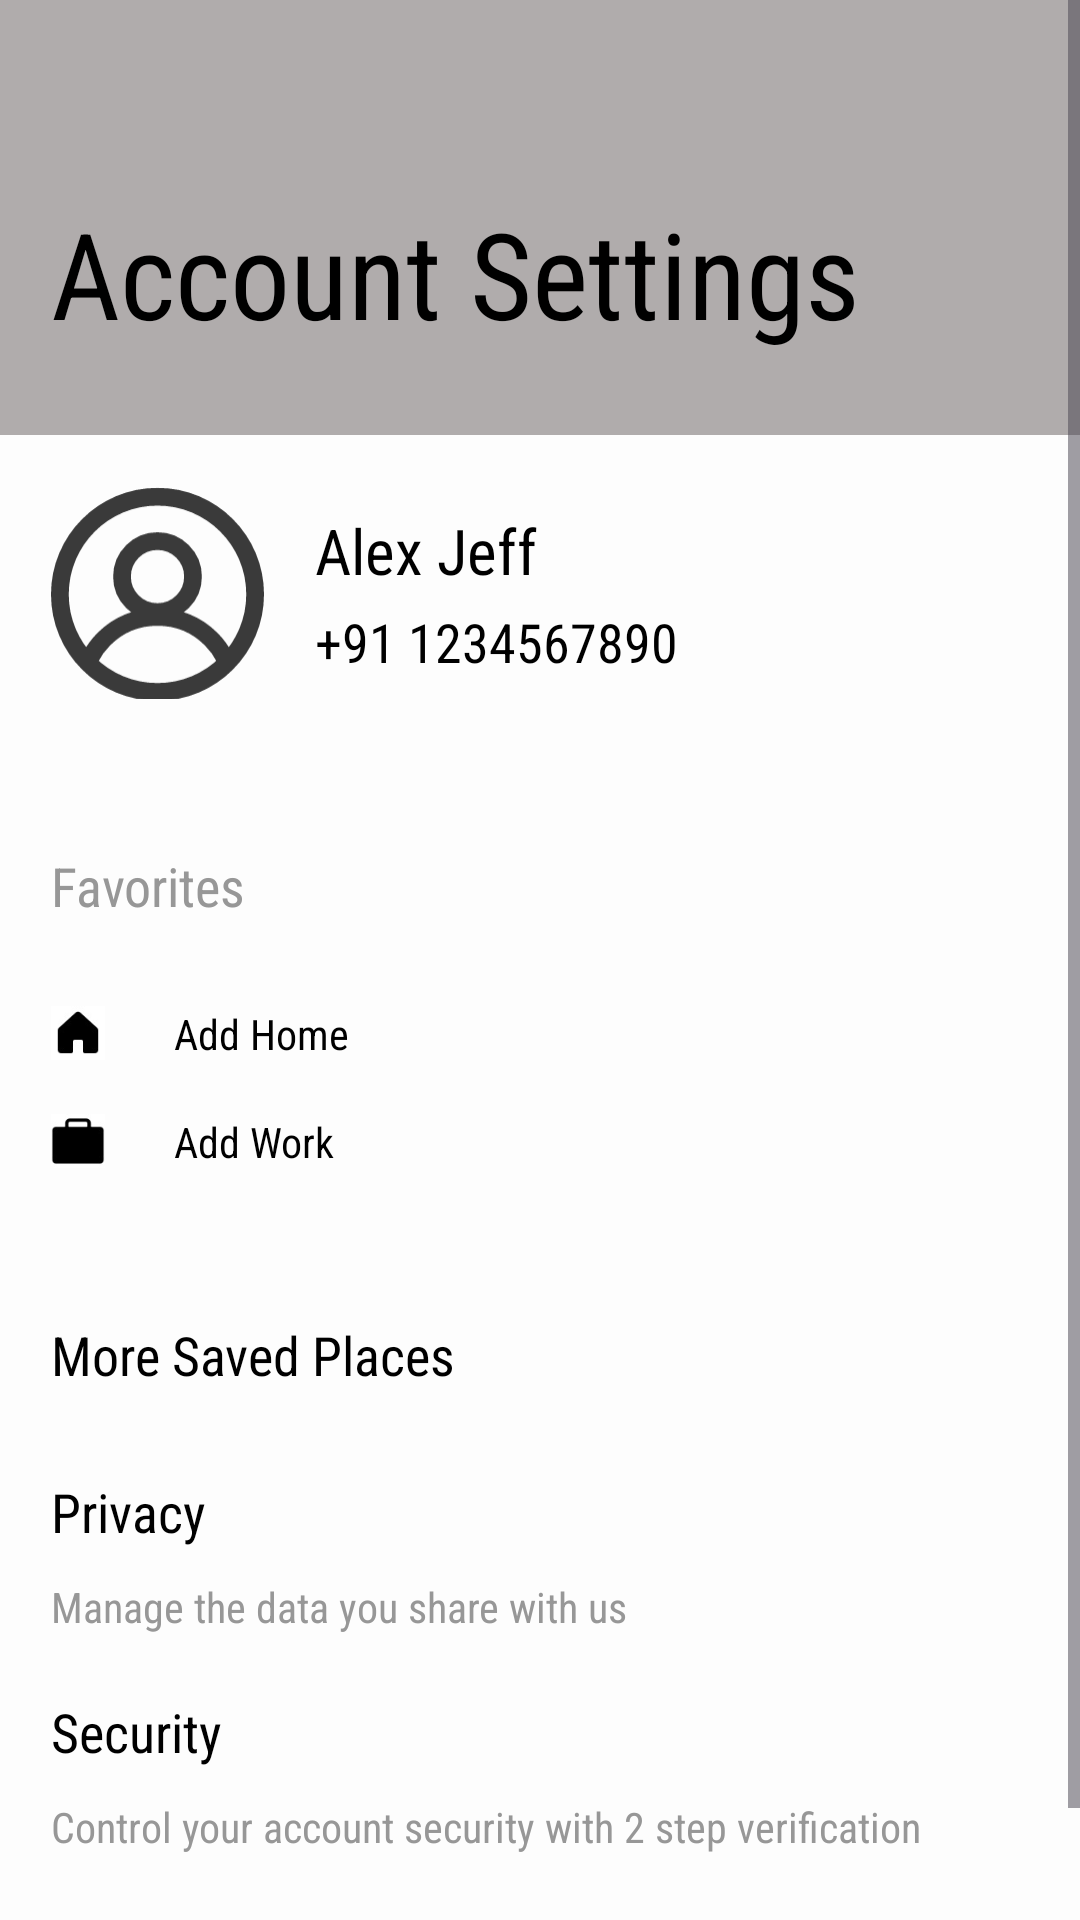

Icon bounding boxes for this 1080 x 1920 phone screenshot, format bbox=[x1, y1, x2, y2]:
profile: bbox=[51, 488, 264, 699]
